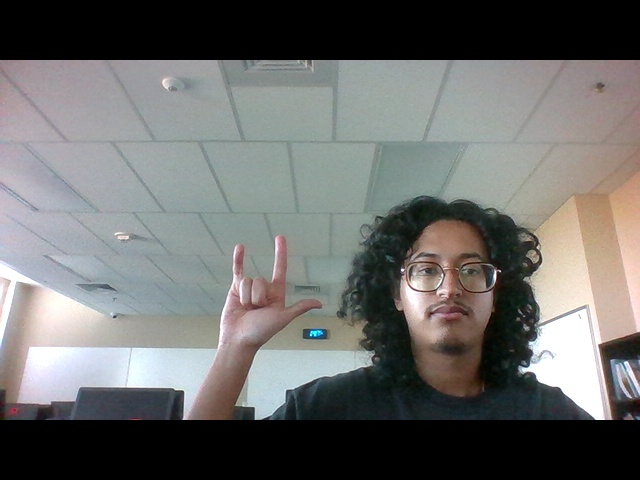iloveyou: (209, 234, 336, 356)
